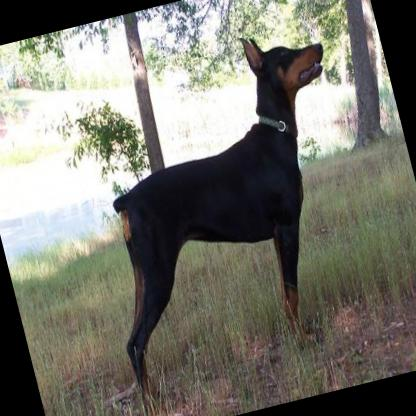Doberman: (58, 16, 400, 416)
